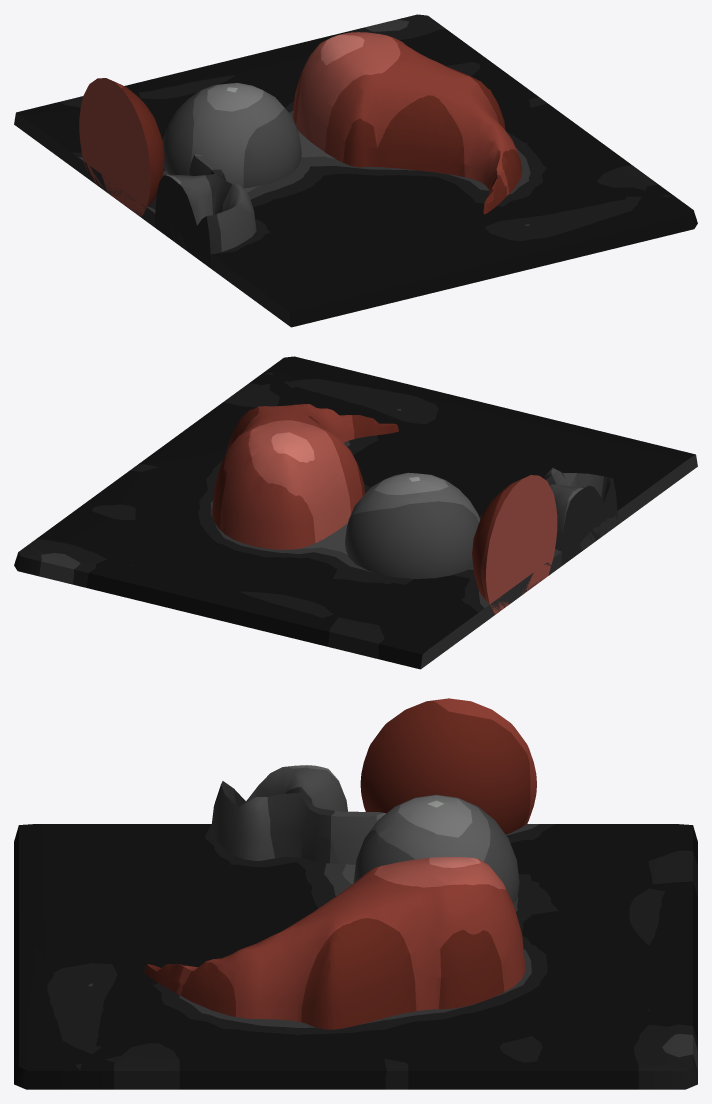
File: brick_crab_right.glb
The picture shows the model from 3 angles, top to bottom: view 1: azimuth 30°, elevation 25°; view 2: azimuth 150°, elevation 25°; view 3: azimuth 270°, elevation 25°; orthographic projection. The views are drawn at different scales.
Visible parts, largest first — view 1: wall, hooks, knob_r, ball_r, shoulders; view 2: wall, hooks, knob_r, ball_r, shoulders; view 3: wall, hooks, ball_r, shoulders, knob_r.
Boxes of the visible parts, box(x1,y1,x2,y2) form: wall: box(14, 14, 697, 327); hooks: box(292, 32, 522, 214); knob_r: box(163, 83, 301, 188); ball_r: box(79, 78, 164, 217); shoulders: box(154, 154, 256, 268); wall: box(14, 356, 697, 669); hooks: box(212, 404, 398, 549); knob_r: box(345, 472, 480, 578); ball_r: box(472, 475, 557, 614); shoulders: box(543, 467, 617, 566); wall: box(14, 824, 697, 1089); hooks: box(144, 857, 525, 1029); ball_r: box(360, 698, 536, 834); shoulders: box(211, 765, 385, 864); knob_r: box(353, 794, 519, 903).
Bounding box in the file's own units: 24 × 6.48 × 28.
